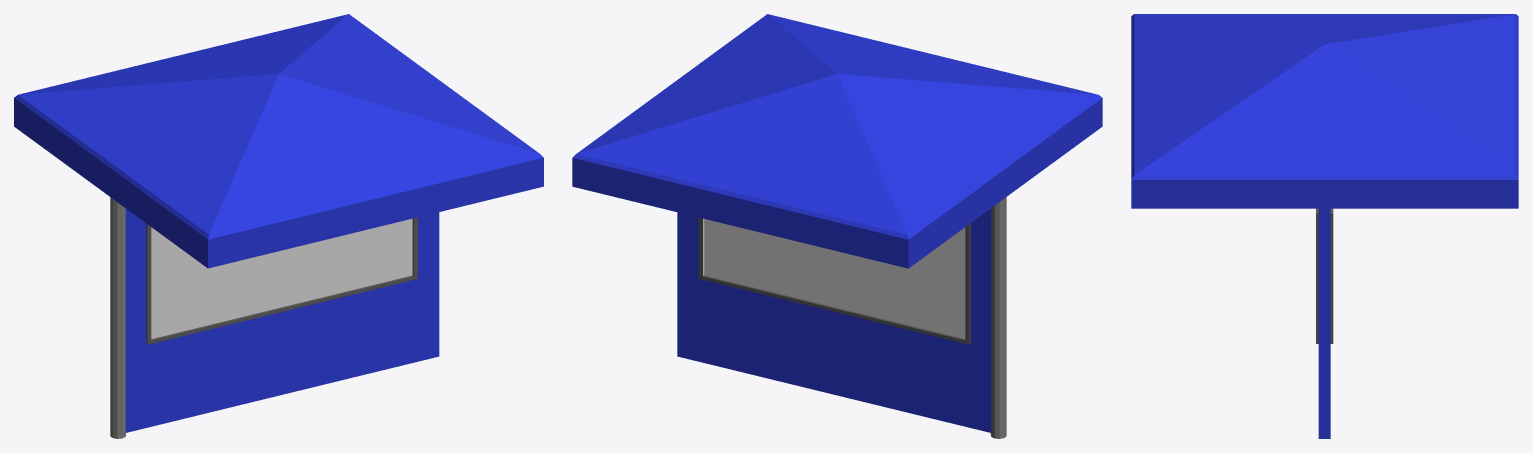
The model's file is Tent.fbx.
The picture shows the model from 3 angles, left to right: view 1: azimuth 30°, elevation 25°; view 2: azimuth 150°, elevation 25°; view 3: azimuth 270°, elevation 25°; orthographic projection.
Visible parts, largest first — view 1: Tent_Roof, Wall_Window; view 2: Tent_Roof, Wall_Window; view 3: Tent_Roof, Wall_Window.
Boxes of the visible parts, left/top/right/bottom form: Tent_Roof: left=14, top=14, right=543, bottom=268; Wall_Window: left=110, top=197, right=439, bottom=438; Tent_Roof: left=572, top=14, right=1102, bottom=268; Wall_Window: left=677, top=197, right=1006, bottom=438; Tent_Roof: left=1131, top=14, right=1518, bottom=208; Wall_Window: left=1316, top=208, right=1333, bottom=438.
Bounding box in the file's own units: 482 × 442 × 482.
